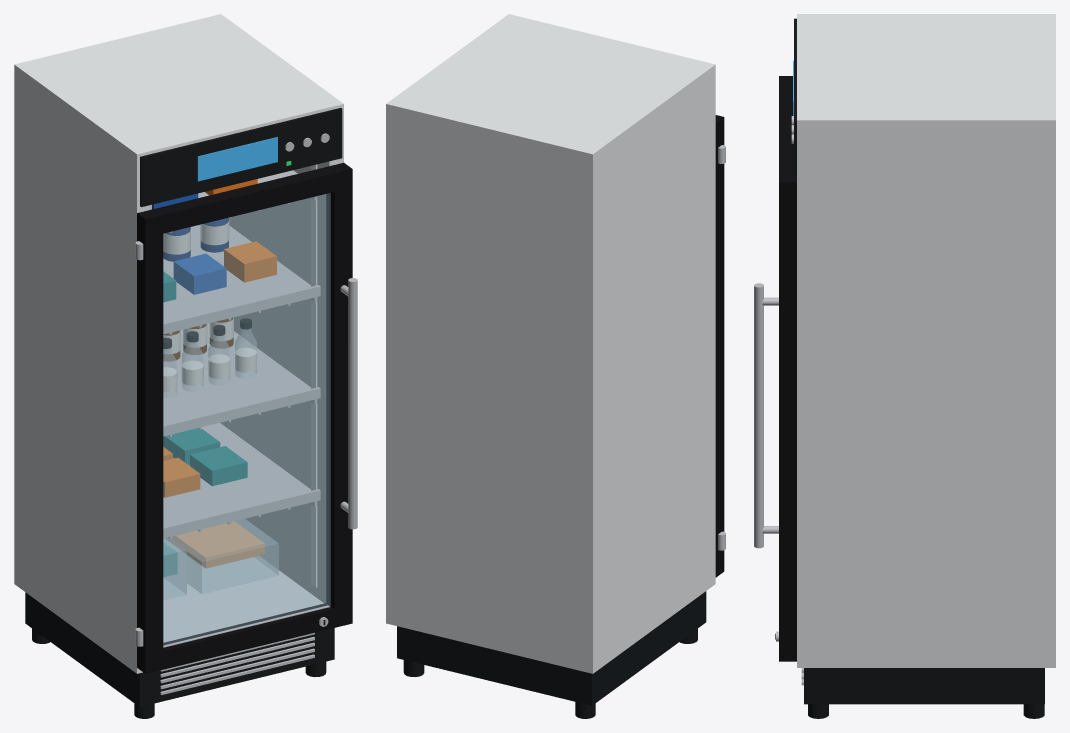
The model's file is lab_fridge.fbx.
3 views of the same model, side by side, from view 1: azimuth 30°, elevation 25°; view 2: azimuth 150°, elevation 25°; view 3: azimuth 270°, elevation 25° (orthographic). The views are drawn at different scales.
Parts seen in each view (by area): view 1: Fridge_Body_White, Door_Glass, Door_Frame_Frame_Black, Fridge_Liner, Fridge_Plastic_Dark, Shelf_02, Shelf_01, Fridge_Contents_Crate_Clear, Shelf_03, Fridge_Contents_Box_Orange, Fridge_Contents_Label_White, Fridge_Contents_Box_Teal (+9 smaller); view 2: Fridge_Body_White, Fridge_Plastic_Dark, Door_Frame_Frame_Black, Fridge_Plastic_Dark_Round; view 3: Fridge_Body_White, Door_Frame_Frame_Black, Fridge_Plastic_Dark, Door_Handle_Mesh, Fridge_Plastic_Dark_Round.
Boxes of the visible parts, <box> form: Fridge_Body_White: <box>14,14,343,673</box>; Door_Glass: <box>163,193,330,645</box>; Door_Frame_Frame_Black: <box>137,162,352,673</box>; Fridge_Liner: <box>150,161,330,642</box>; Fridge_Plastic_Dark: <box>25,108,342,706</box>; Shelf_02: <box>163,323,320,436</box>; Shelf_01: <box>163,423,320,538</box>; Fridge_Contents_Crate_Clear: <box>163,519,278,599</box>; Shelf_03: <box>163,225,320,334</box>; Fridge_Contents_Box_Orange: <box>163,179,276,568</box>; Fridge_Contents_Label_White: <box>163,220,256,392</box>; Fridge_Contents_Box_Teal: <box>163,271,247,576</box>; Fridge_Body_White: <box>386,14,715,673</box>; Fridge_Plastic_Dark: <box>397,591,706,705</box>; Door_Frame_Frame_Black: <box>715,115,724,577</box>; Fridge_Plastic_Dark_Round: <box>403,628,697,718</box>; Fridge_Body_White: <box>797,14,1055,667</box>; Door_Frame_Frame_Black: <box>779,76,796,661</box>; Fridge_Plastic_Dark: <box>794,18,1044,704</box>; Door_Handle_Mesh: <box>754,283,778,548</box>; Fridge_Plastic_Dark_Round: <box>808,704,1044,718</box>.
Bounding box in the file's own units: 71.8 × 185 × 83.88.
